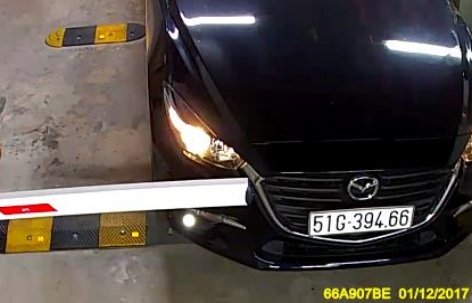plate: (308, 204, 415, 236)
